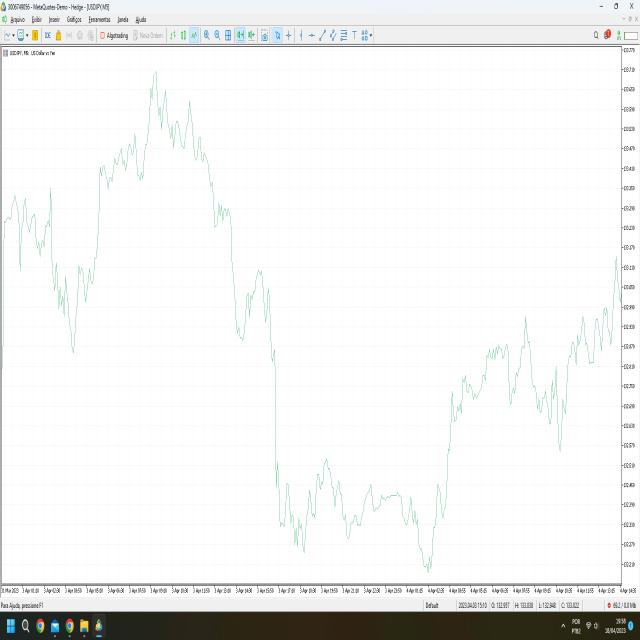bandeira_baixa: (266, 326, 308, 557), (197, 137, 232, 236)
oco_inv: (44, 197, 113, 372)
